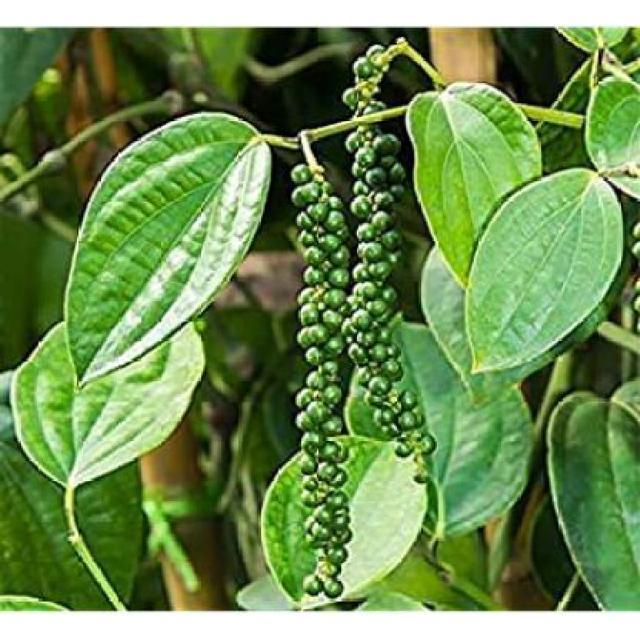UNRIPE: (297, 50, 417, 596)
